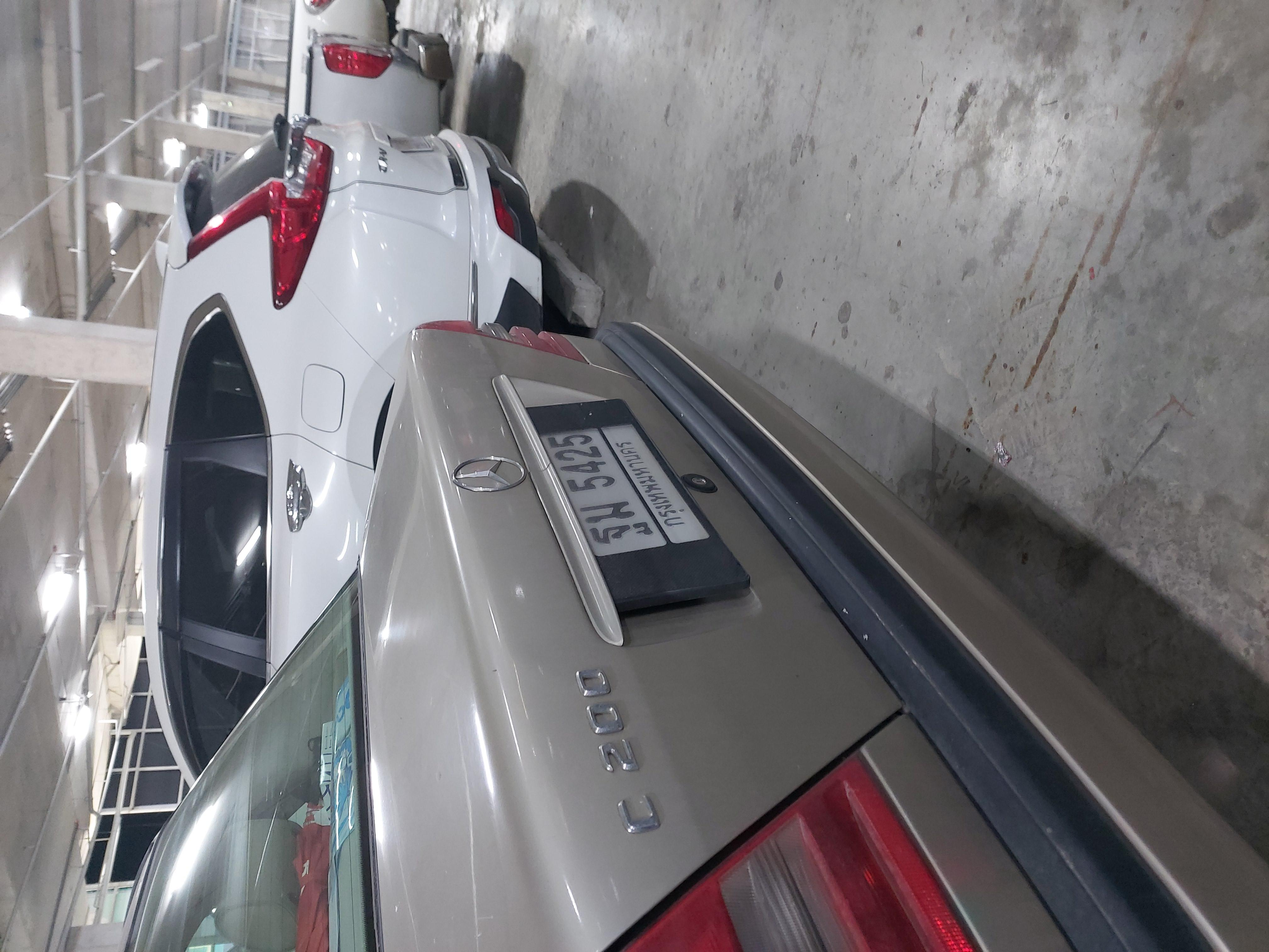license-plate: (528, 405, 706, 534)
